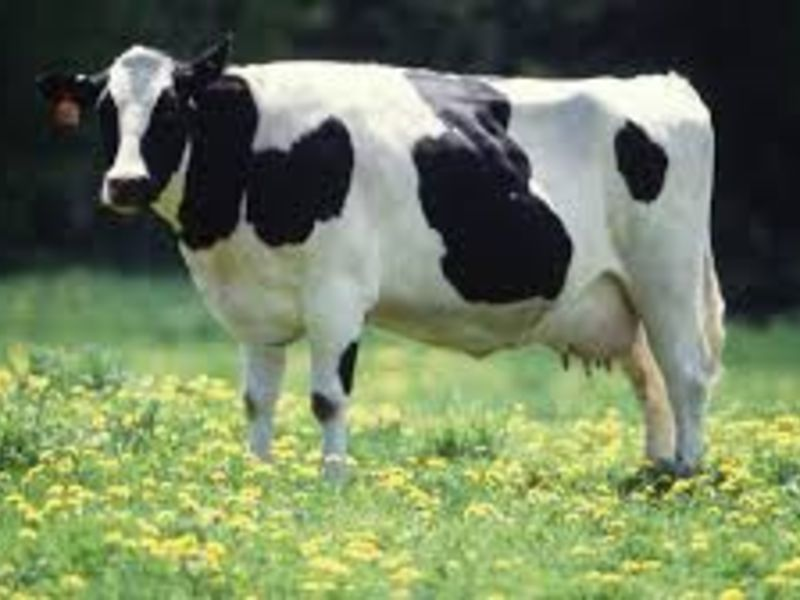cow: (34, 27, 733, 494)
